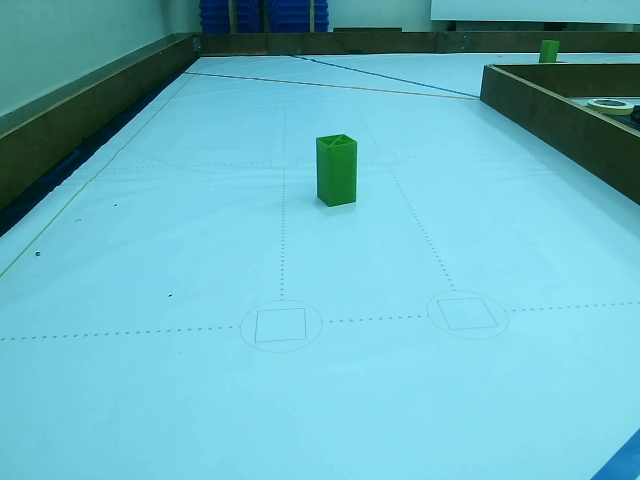green: (315, 139, 358, 211)
